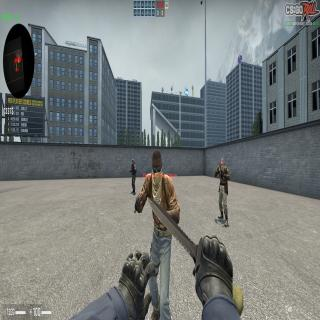CT-Body: (130, 159, 136, 195)
CT-Head: (132, 159, 134, 166)
T-Body: (134, 146, 180, 320), (214, 158, 230, 228)
T-Head: (152, 148, 162, 186), (220, 158, 224, 172)
